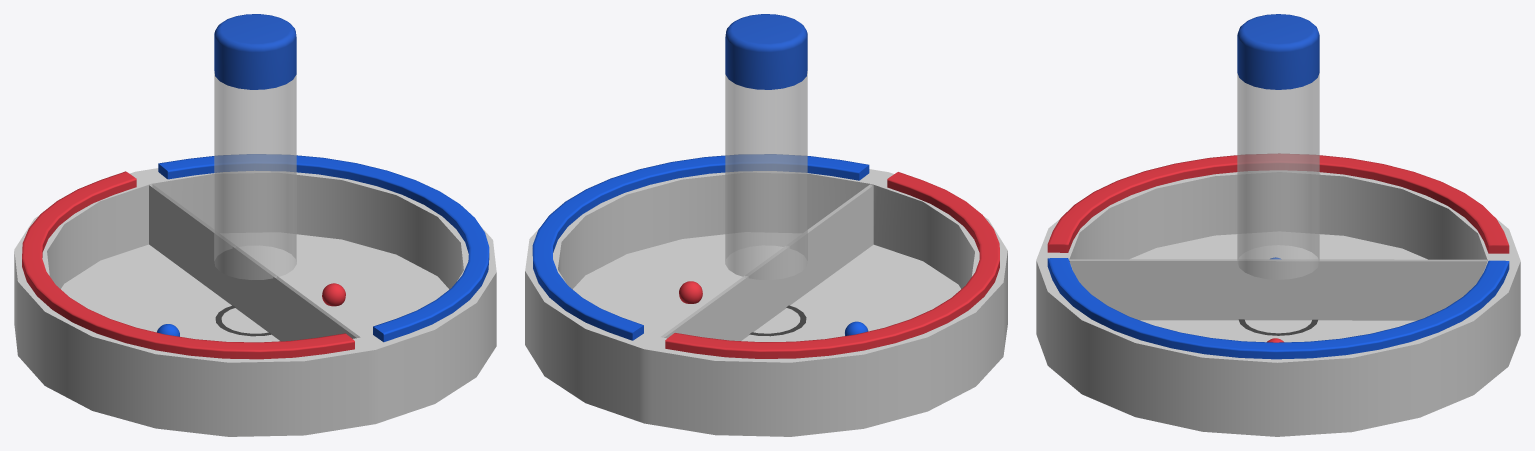
File: Bead Sort.fbx
3 views of the same model, side by side, from view 1: azimuth 30°, elevation 25°; view 2: azimuth 150°, elevation 25°; view 3: azimuth 270°, elevation 25° (orthographic).
Visible parts, largest first — view 1: pCylinder6, pCylinder5, duplicated_02, mirrored_x_1, pSphere1; view 2: pCylinder6, pCylinder5, duplicated_02, mirrored_x_1; view 3: pCylinder6, pCylinder5, mirrored_x_1, duplicated_02.
Boxes of the visible parts, x1=… form: pCylinder6: x1=14, y1=168, x2=496, y2=436; pCylinder5: x1=214, y1=14, x2=296, y2=279; duplicated_02: x1=22, y1=171, x2=354, y2=359; mirrored_x_1: x1=158, y1=154, x2=489, y2=342; pSphere1: x1=322, y1=283, x2=345, y2=306; pCylinder6: x1=525, y1=169, x2=1007, y2=436; pCylinder5: x1=725, y1=14, x2=807, y2=279; duplicated_02: x1=665, y1=172, x2=999, y2=358; mirrored_x_1: x1=532, y1=154, x2=869, y2=340; pCylinder6: x1=1036, y1=170, x2=1520, y2=436; pCylinder5: x1=1237, y1=14, x2=1319, y2=279; mirrored_x_1: x1=1047, y1=258, x2=1509, y2=359; duplicated_02: x1=1047, y1=153, x2=1509, y2=253.
Size of what is drawn, in the model's own units: 120 by 83.62 by 120.
